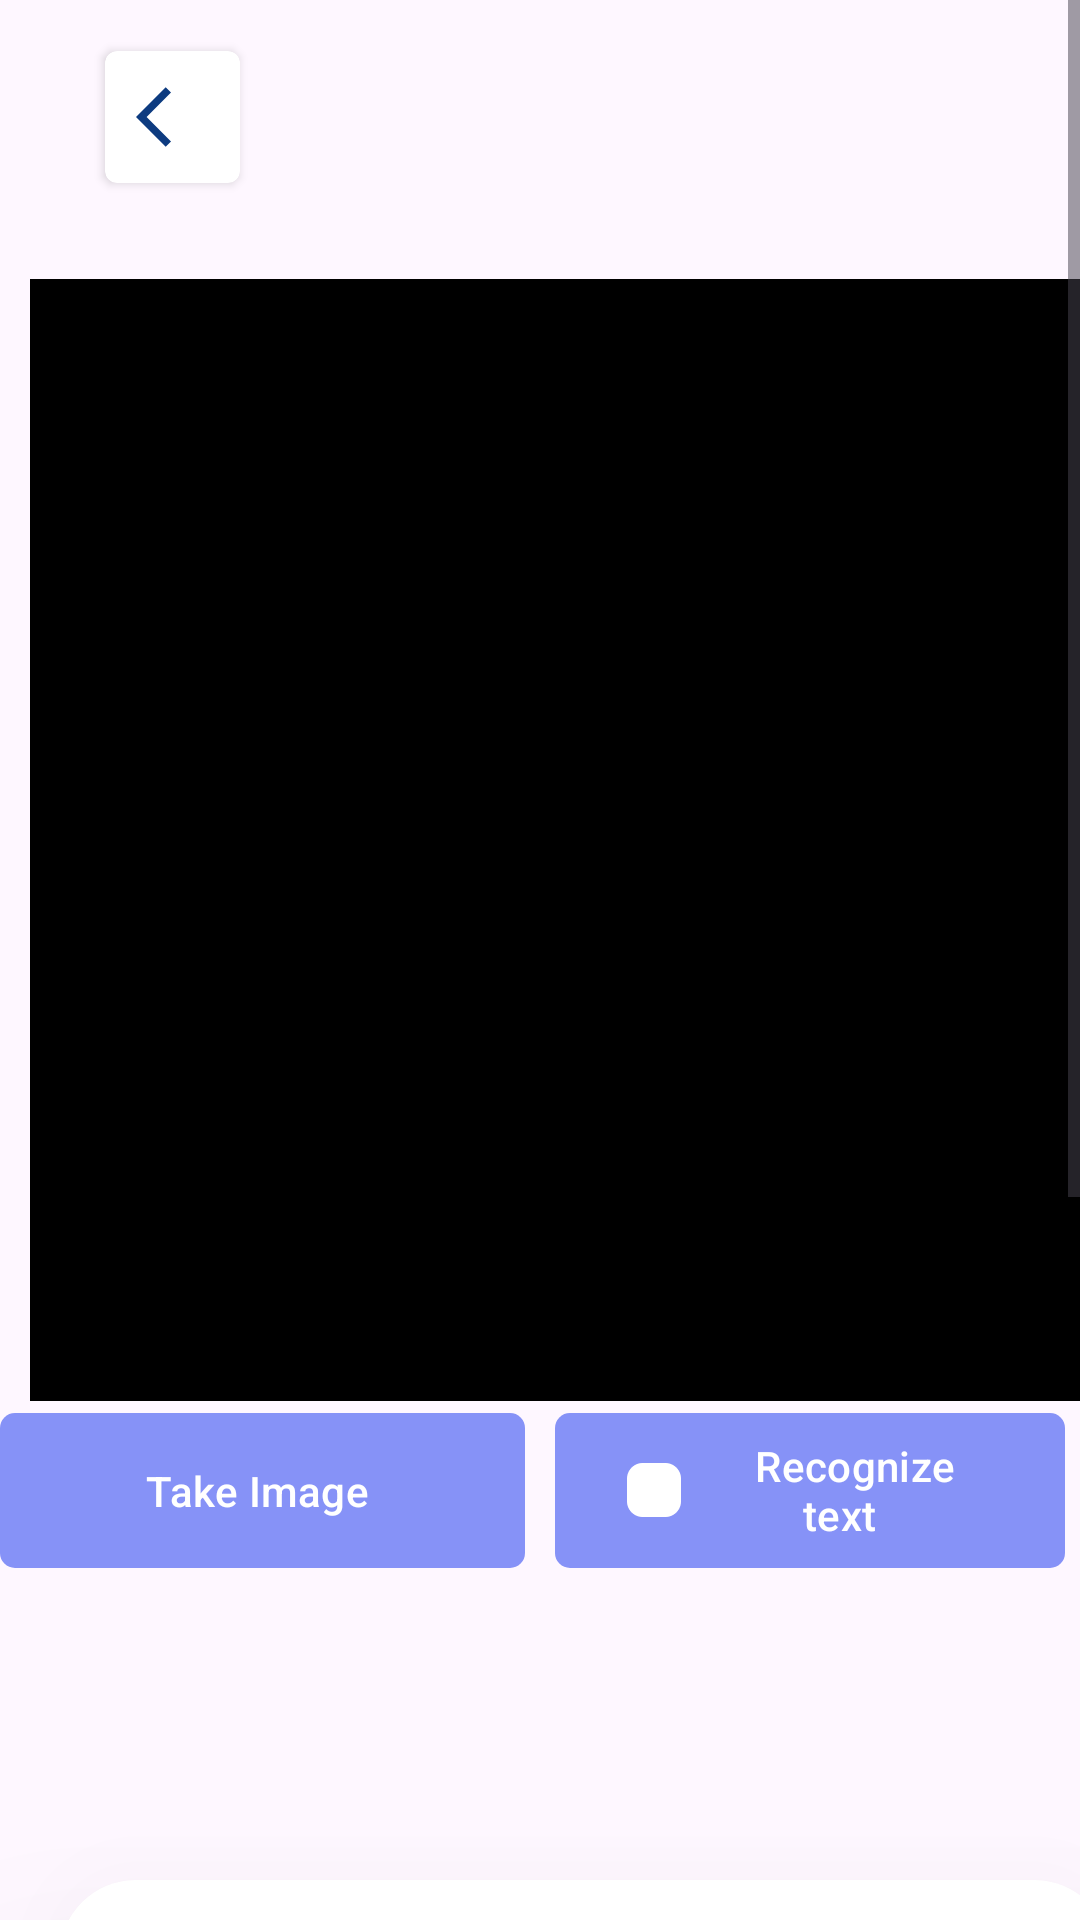

Point at icon controls on the screen. Image size 1080px x 1920px, points as (x=x, y=y).
Back: (x=153, y=117)
